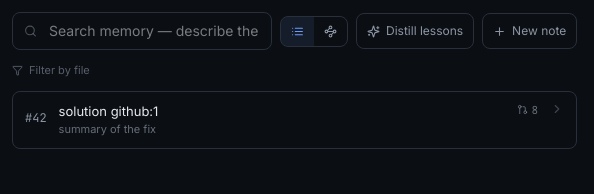
Test: MemoryBrowser — lesson backfill (#256) › surfaces a refused backfill
Expected: the text "solution github:1" is shown, [59,102,158,118]
Click the button "Distill lessons": (415, 31) [356,13,474,49]
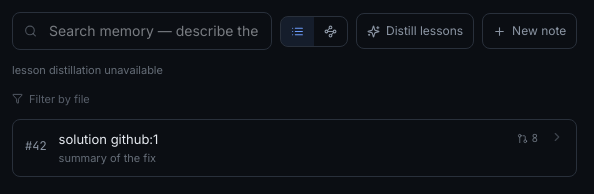
Expected: the text "lesson distillation unavailable" is shown, [12,63,163,77]
